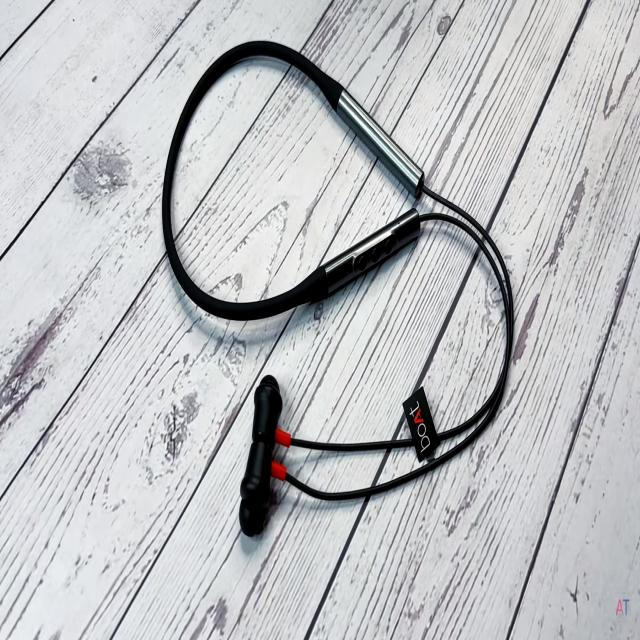Neckband: (161, 37, 514, 540)
